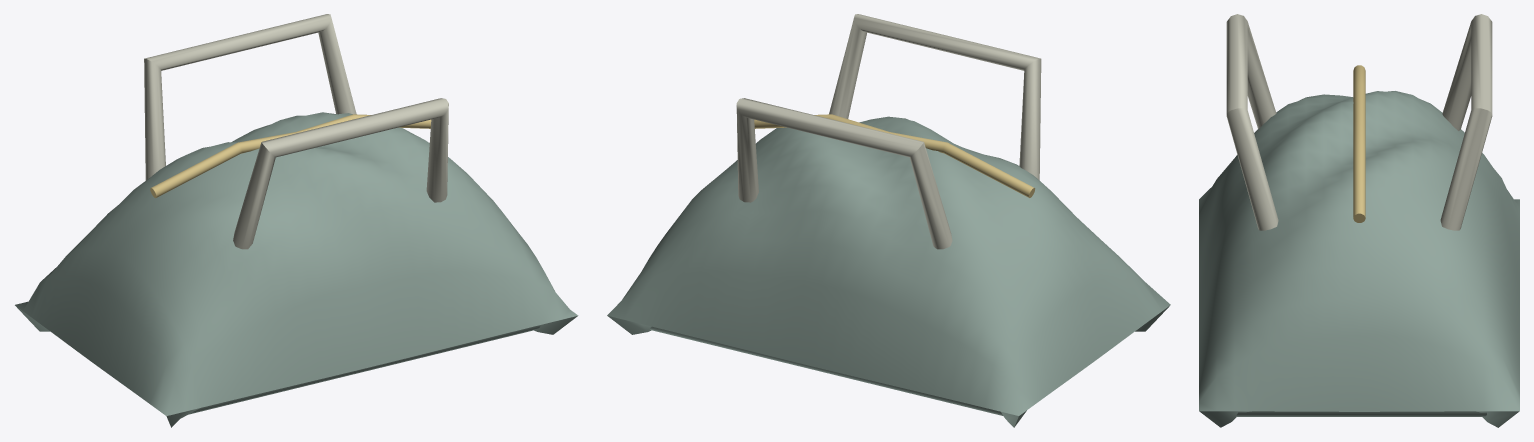
Rendered from CTCC_PROP_PatientBag.fbx.
3 views of the same model, side by side, from view 1: azimuth 30°, elevation 25°; view 2: azimuth 150°, elevation 25°; view 3: azimuth 270°, elevation 25° (orthographic). The views are drawn at different scales.
Parts seen in each view (by area): view 1: CTCC_PROP_PatientBag_LOD0; view 2: CTCC_PROP_PatientBag_LOD0; view 3: CTCC_PROP_PatientBag_LOD0.
Boxes of the visible parts, left/top/right/bottom form: CTCC_PROP_PatientBag_LOD0: left=15, top=14, right=578, bottom=427; CTCC_PROP_PatientBag_LOD0: left=607, top=14, right=1170, bottom=427; CTCC_PROP_PatientBag_LOD0: left=1199, top=14, right=1519, bottom=427.
Size of what is drawn, in the model's own units: 0.36 by 0.2124 by 0.23.
